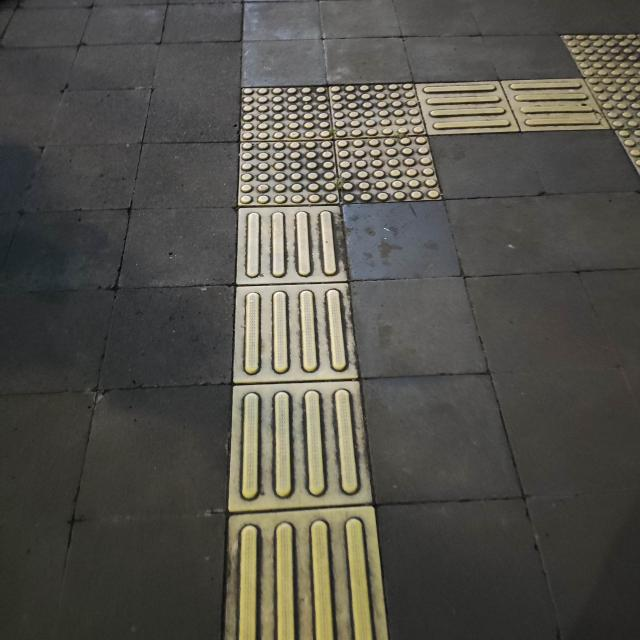kanan: (201, 59, 559, 239)
